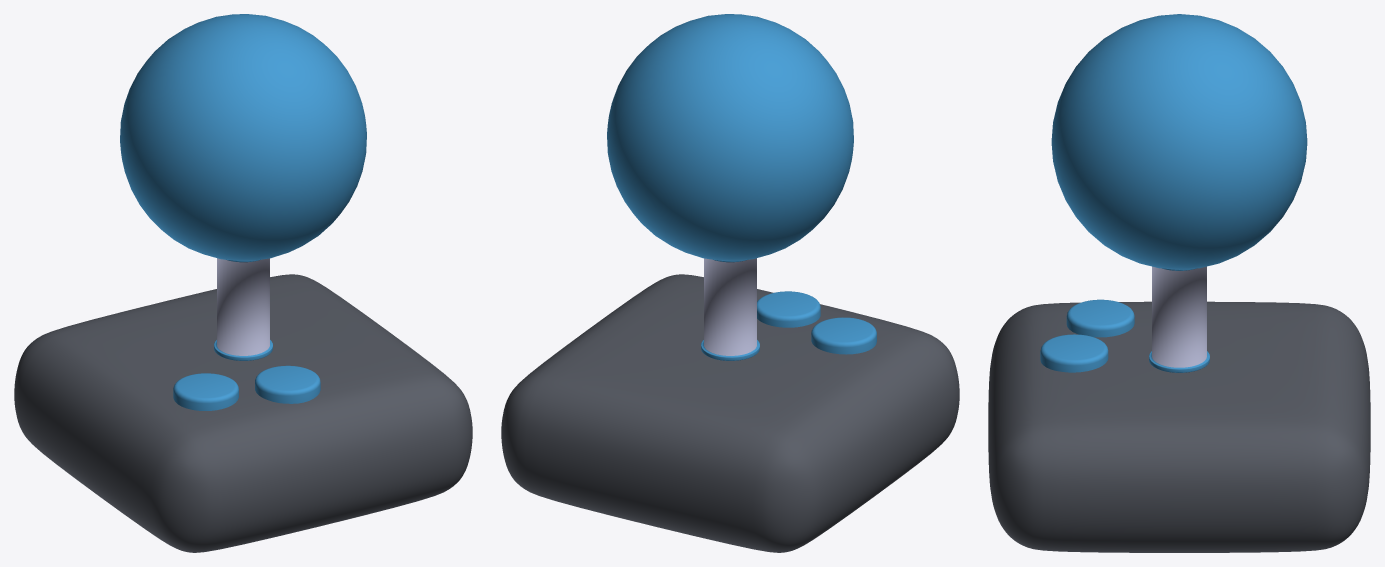
The model's file is joystick.glb.
3 views of the same model, side by side, from view 1: azimuth 30°, elevation 25°; view 2: azimuth 150°, elevation 25°; view 3: azimuth 270°, elevation 25° (orthographic). The views are drawn at different scales.
Parts seen in each view (by area): view 1: Cylinder.002; view 2: Cylinder.002; view 3: Cylinder.002.
Part boxes in pixels (x1,y1,x2,y2): Cylinder.002: (14, 14, 472, 552); Cylinder.002: (501, 14, 959, 552); Cylinder.002: (988, 14, 1370, 552).
Size of the model in its own units: 5.59 by 7.55 by 5.59.
